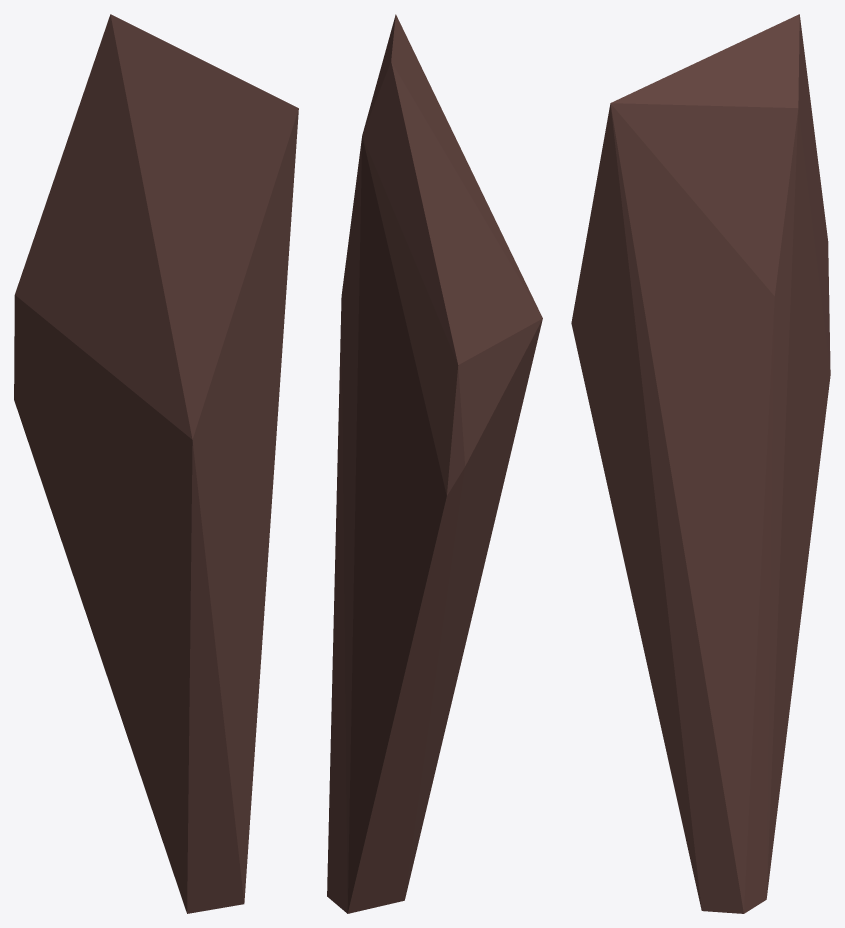
File: CommonTree_Dead_Snow_3.lod4.glb
The picture shows the model from 3 angles, left to right: view 1: azimuth 30°, elevation 25°; view 2: azimuth 150°, elevation 25°; view 3: azimuth 270°, elevation 25°; orthographic projection. The views are drawn at different scales.
Visible parts, largest first — view 1: CommonTree_Dead_Snow_3; view 2: CommonTree_Dead_Snow_3; view 3: CommonTree_Dead_Snow_3.
Boxes of the visible parts, x1=… form: CommonTree_Dead_Snow_3: x1=14, y1=14, x2=298, y2=913; CommonTree_Dead_Snow_3: x1=327, y1=14, x2=542, y2=913; CommonTree_Dead_Snow_3: x1=571, y1=14, x2=830, y2=913.
Size of the model in its own units: 0.6348 by 2.99 by 0.8204.
